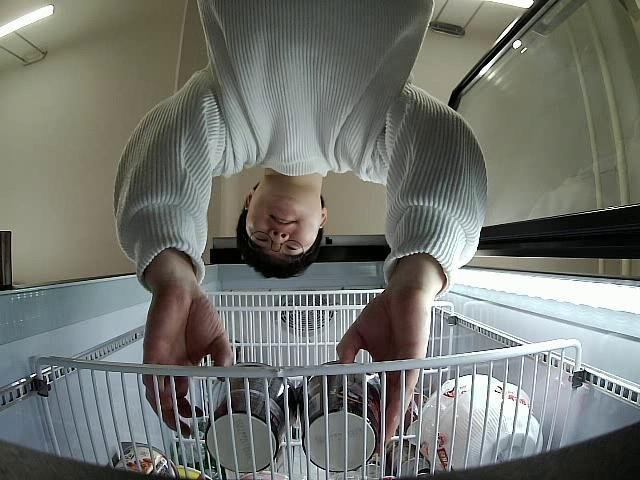08_buldak_S: (206, 361, 298, 474), (300, 360, 384, 473)
